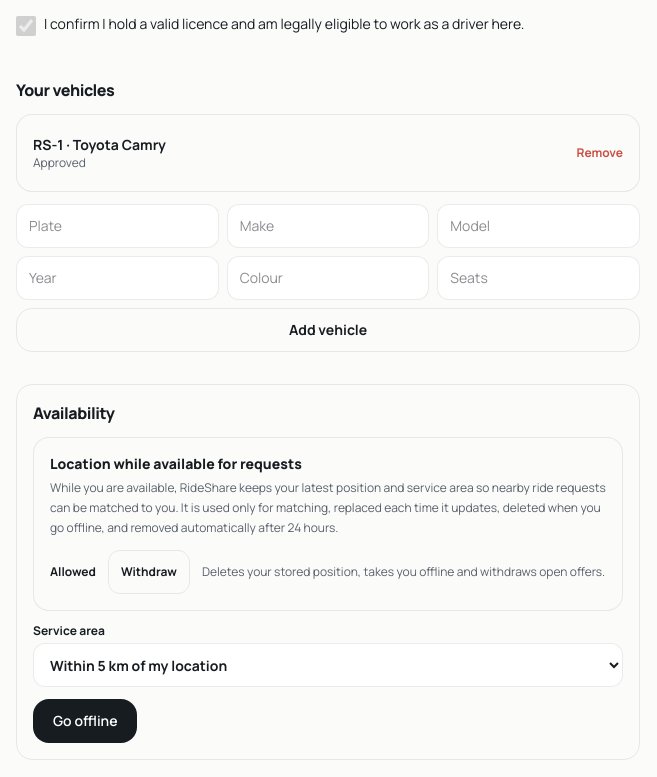
Test: DriverOnboarding › withdrawing consent takes the driver offline in the screen too
(page scrolled)
Expected: the button "Go offline" is shown, [33,699,138,743]
Click the button "Withdraw" at [149, 572], box [108,550,190,594]
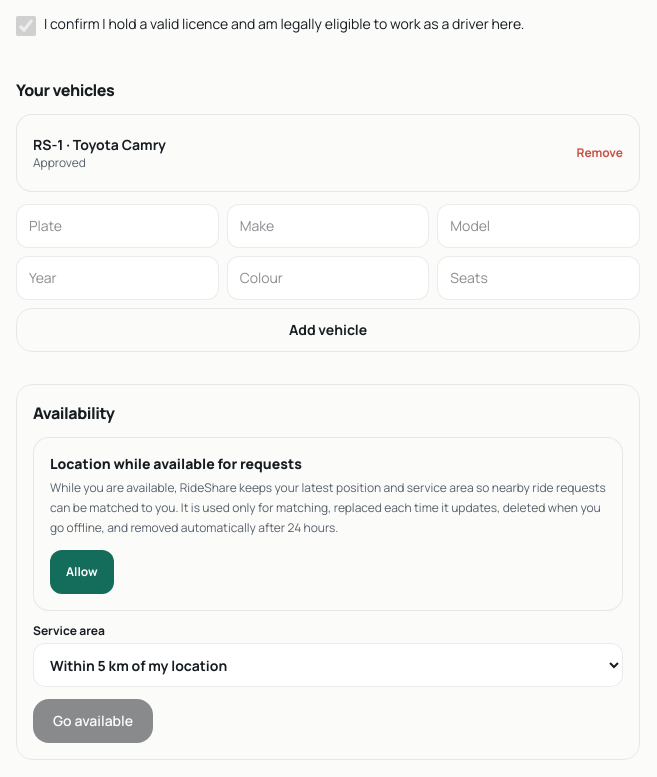
Expected: the button "Allow" is shown, [50,550,114,594]
Now the button "Go available" is disabled, box [33,699,153,743]
